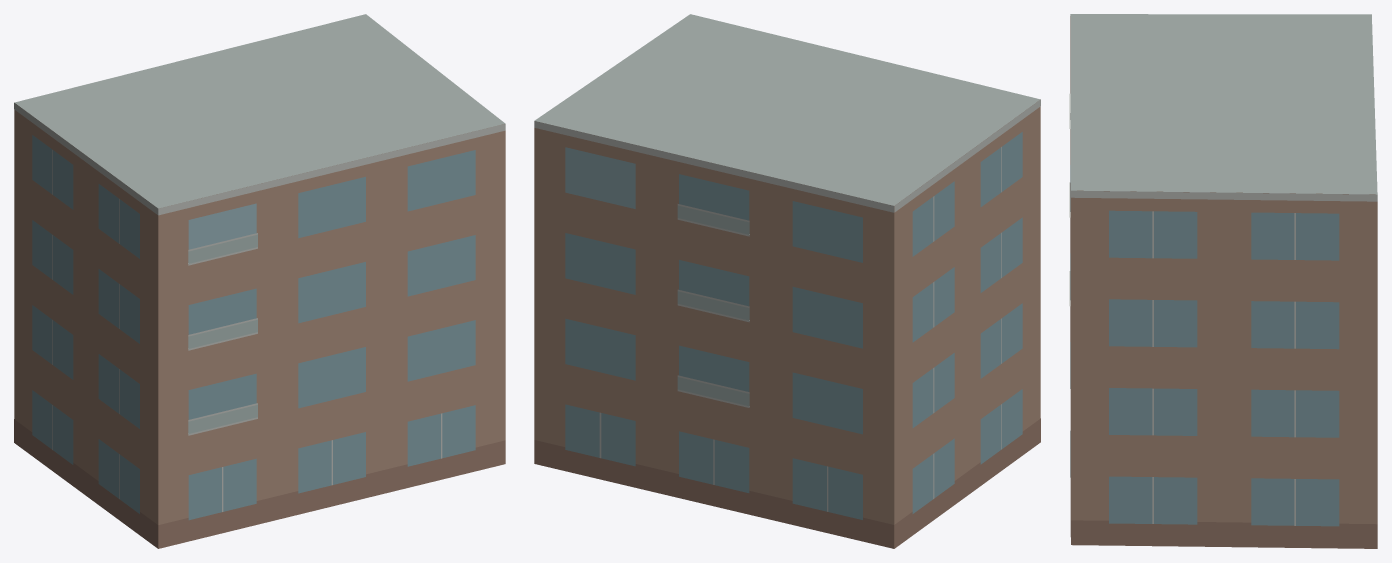
File: survey-upis-32822204.glb
The picture shows the model from 3 angles, left to right: view 1: azimuth 30°, elevation 25°; view 2: azimuth 150°, elevation 25°; view 3: azimuth 270°, elevation 25°; orthographic projection. The views are drawn at different scales.
Parts seen in each view (by area): view 1: survey-upis-32822204.tmp; view 2: survey-upis-32822204.tmp; view 3: survey-upis-32822204.tmp.
Boxes of the visible parts, bbox=[...] form: survey-upis-32822204.tmp: bbox=[14, 14, 505, 548]; survey-upis-32822204.tmp: bbox=[534, 14, 1040, 548]; survey-upis-32822204.tmp: bbox=[1069, 14, 1377, 548].
Bounding box in the file's own units: 13.22 × 12.1 × 9.55.
